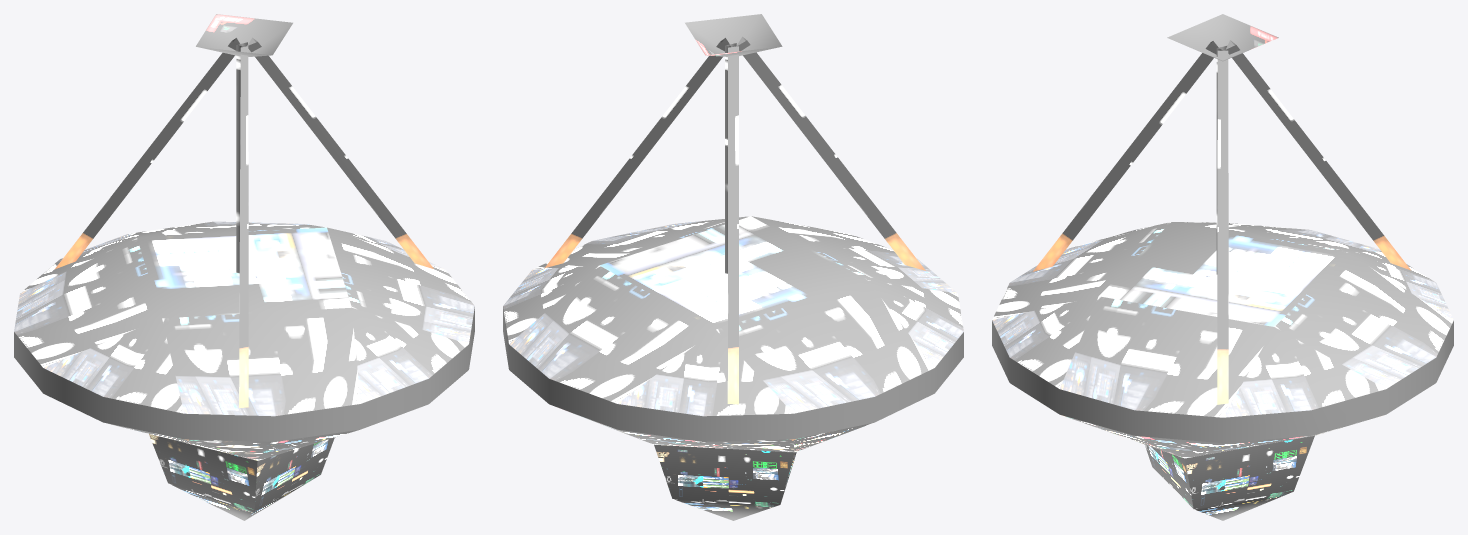
The model's file is SM_M_Commercial_Lighting_CellingLamp_05_ATLAS.fbx.
3 views of the same model, side by side, from view 1: azimuth 30°, elevation 25°; view 2: azimuth 150°, elevation 25°; view 3: azimuth 270°, elevation 25° (orthographic).
Visible parts, largest first — view 1: SM_M_Commercial_Lighting_CellingLamp_05_ATLAS_LOD0; view 2: SM_M_Commercial_Lighting_CellingLamp_05_ATLAS_LOD0; view 3: SM_M_Commercial_Lighting_CellingLamp_05_ATLAS_LOD0.
Part boxes in pixels (x1,y1,x2,y2): SM_M_Commercial_Lighting_CellingLamp_05_ATLAS_LOD0: (14, 14, 474, 520); SM_M_Commercial_Lighting_CellingLamp_05_ATLAS_LOD0: (503, 14, 963, 520); SM_M_Commercial_Lighting_CellingLamp_05_ATLAS_LOD0: (992, 14, 1453, 520).
Bounding box in the file's own units: 127 × 127 × 147.
